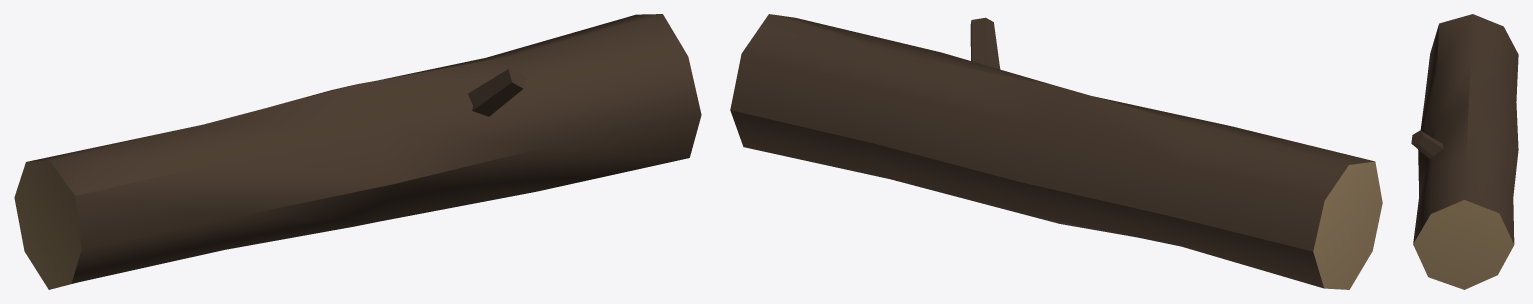
The model's file is log_seat.glb.
The picture shows the model from 3 angles, left to right: view 1: azimuth 30°, elevation 25°; view 2: azimuth 150°, elevation 25°; view 3: azimuth 270°, elevation 25°; orthographic projection. The views are drawn at different scales.
Parts seen in each view (by area): view 1: log_seat; view 2: log_seat; view 3: log_seat.
Part boxes in pixels (bbox=[...]): log_seat: bbox=[14, 14, 701, 289]; log_seat: bbox=[730, 14, 1382, 289]; log_seat: bbox=[1411, 14, 1518, 289].
Size of the model in its own units: 1.62 by 0.4012 by 0.3856.
